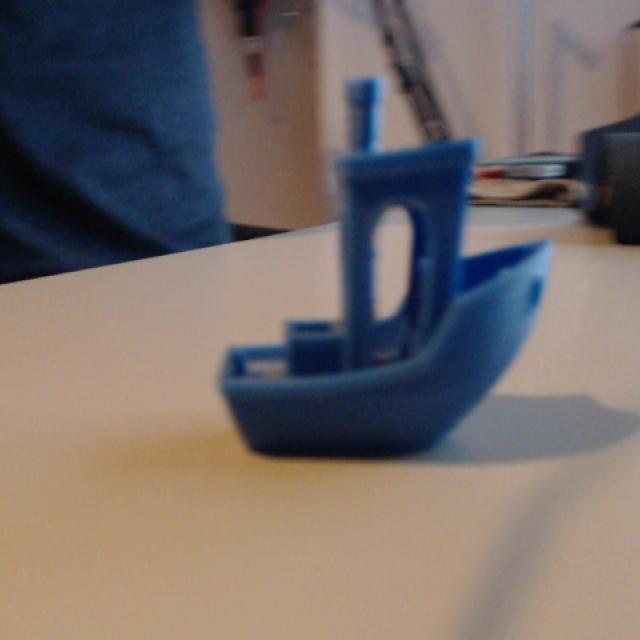benchy: (216, 234, 554, 458)
